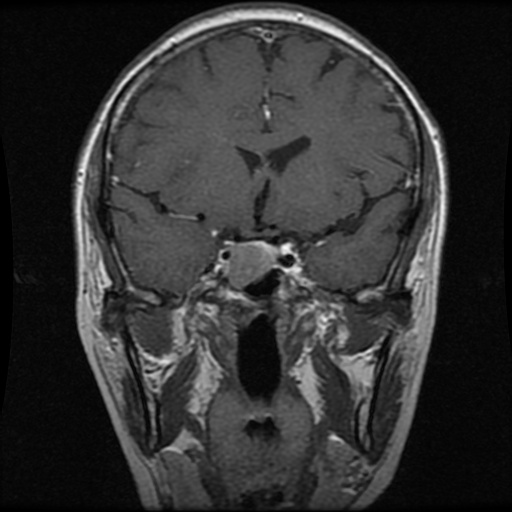pituitary: (227, 240, 278, 289)
